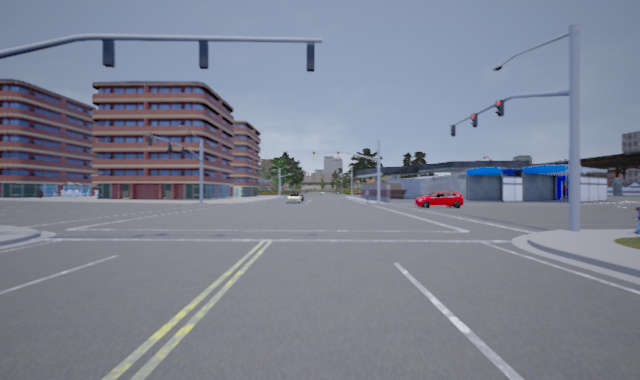vehicle: (415, 191, 464, 208), (286, 193, 302, 204)
